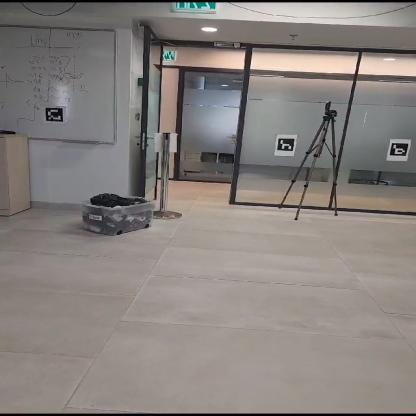open: (150, 65, 246, 212)
